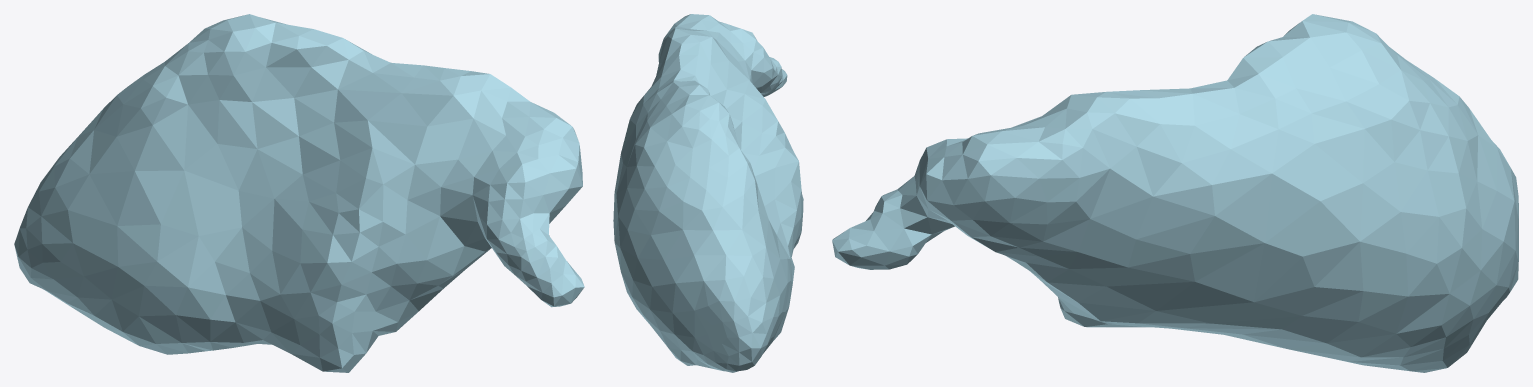
File: gallbladder.obj
3 renders of one model, left to right at view 1: azimuth 30°, elevation 25°; view 2: azimuth 150°, elevation 25°; view 3: azimuth 270°, elevation 25°, orthographic. The views are drawn at different scales.
Visible parts, largest first — view 1: grp1; view 2: grp1; view 3: grp1.
Part boxes in pixels (x1,y1,x2,y2): grp1: [14, 14, 584, 372]; grp1: [613, 14, 803, 372]; grp1: [832, 14, 1518, 372].
Size of the model in its own units: 38.52 by 35.32 by 59.61.
